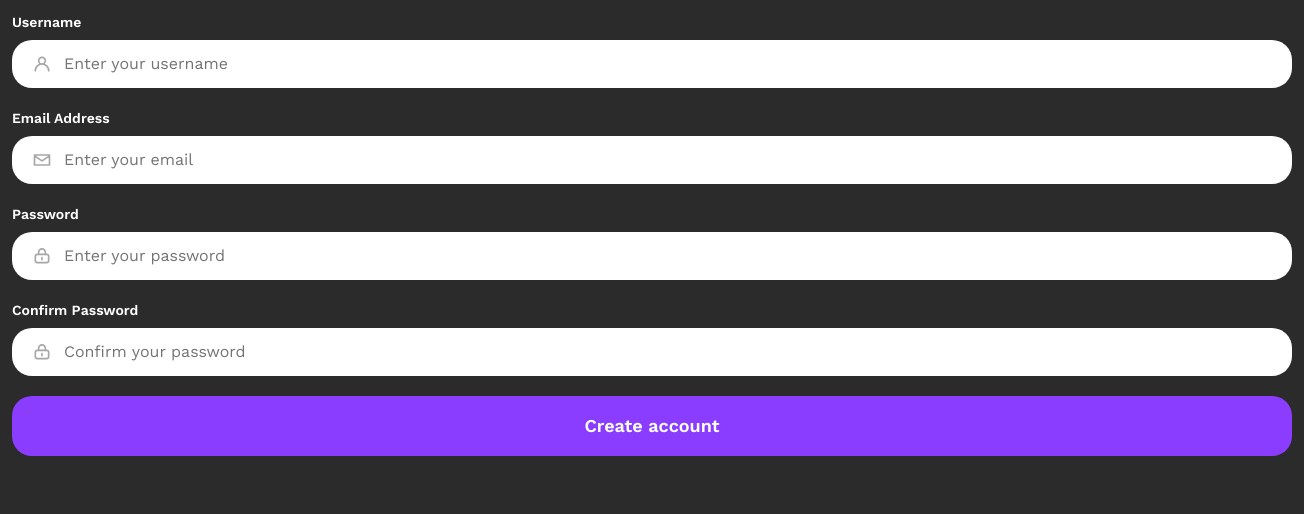
Scenario: CreateAccountForm › accepts a valid submission
Type "satoshi" into the field labelled "Username" at (668, 64), box [64,52,1272,76]
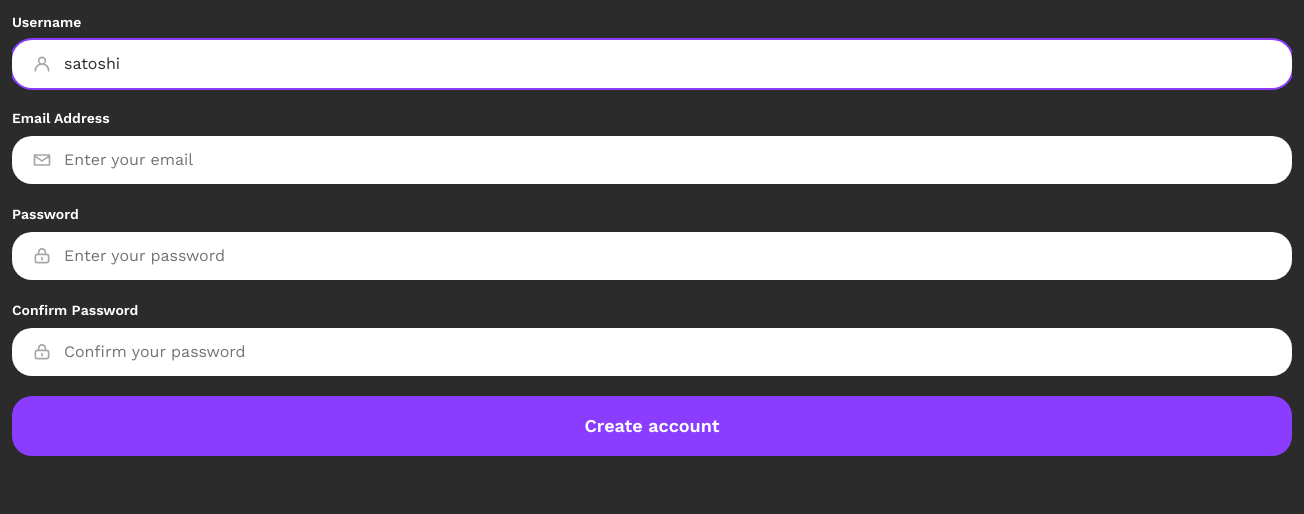
Type "satoshi@example.com" into the field labelled "Email Address" at (668, 160), box [64,148,1272,172]
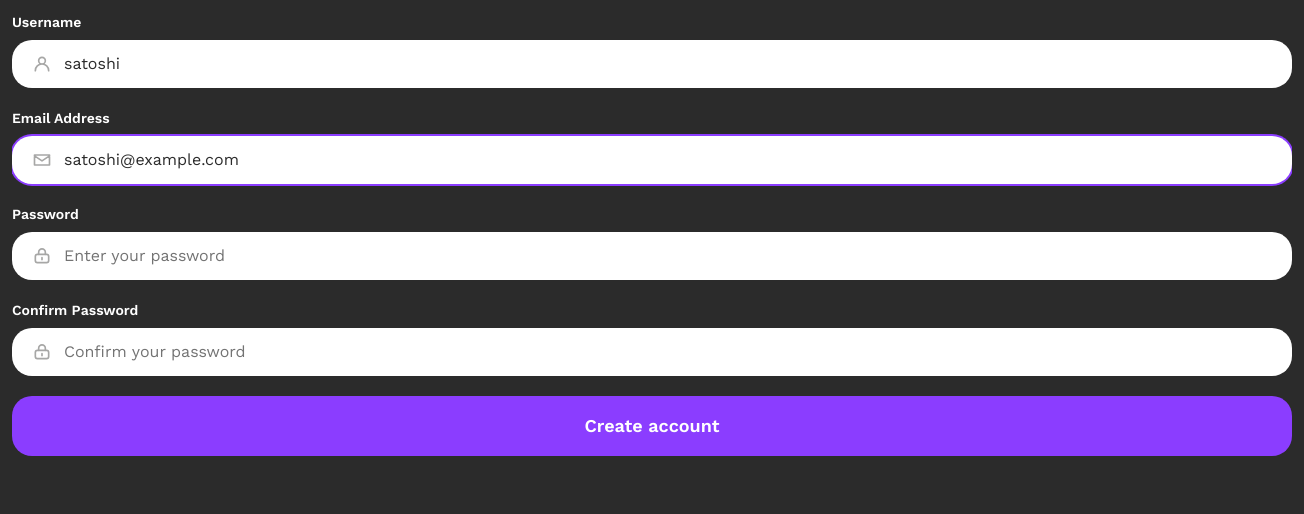
Type "correct-horse" into the password field labelled "Password" at (668, 256), box [64,244,1272,268]
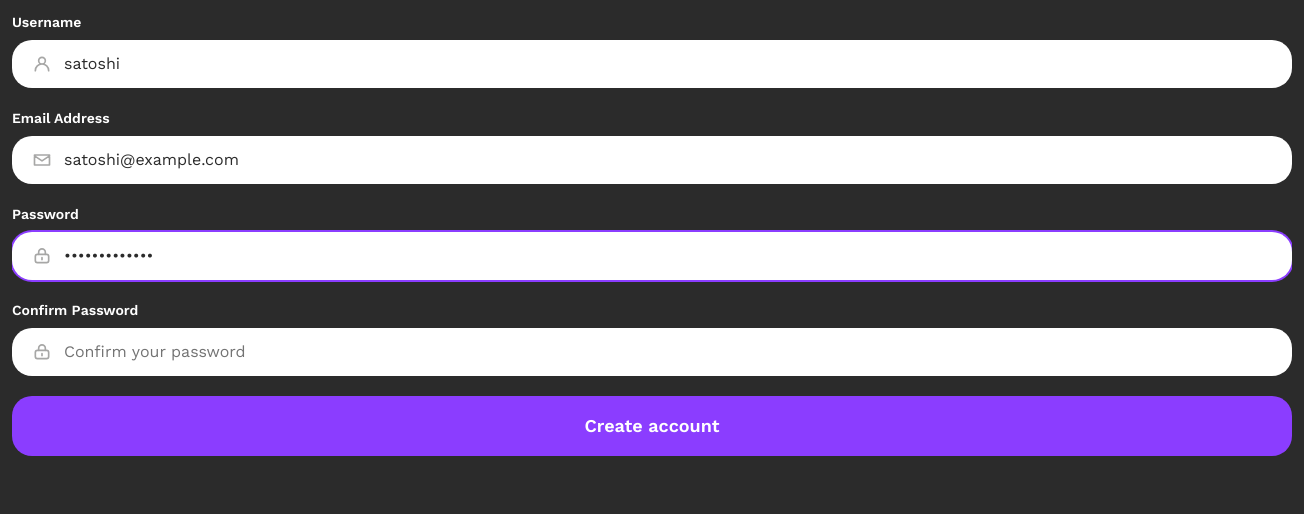
Type "correct-horse" into the password field labelled "Confirm Password" at (668, 352), box [64,340,1272,364]
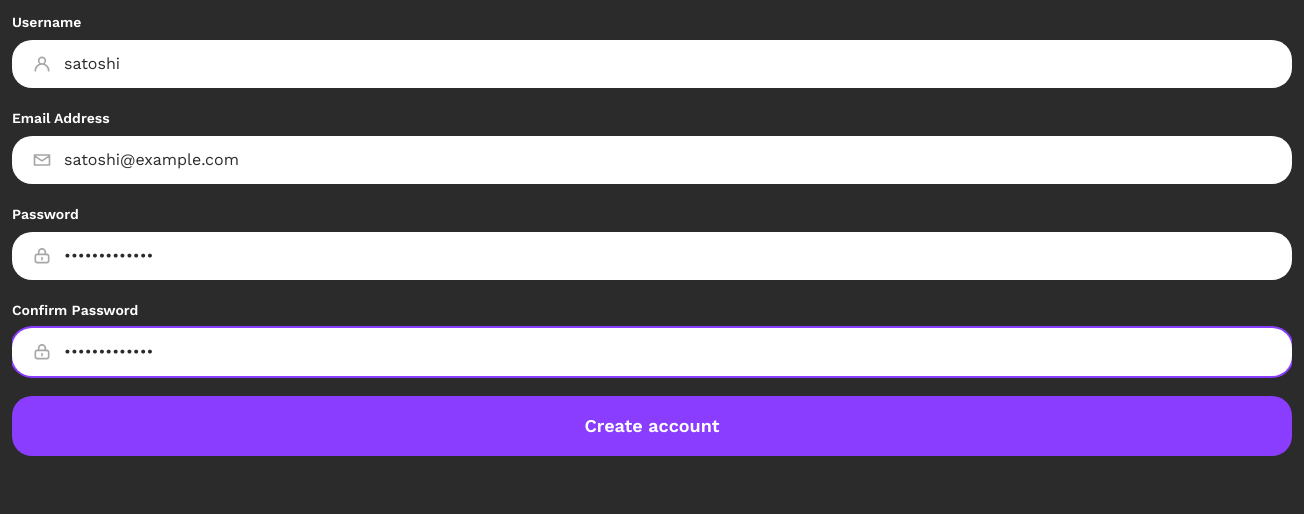
Click the button "Create account" at (652, 426), box [12,396,1292,456]
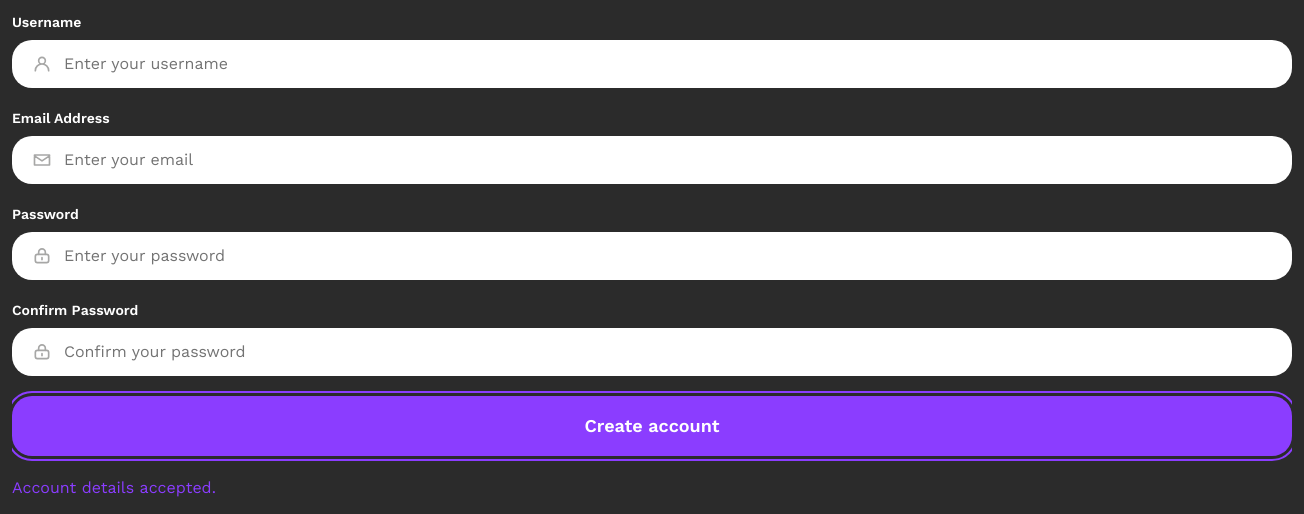
Check: the message reads "Account details accepted.", box [12,478,216,497]
Check: the field labelled "Username" is empty, box [64,52,1272,76]
